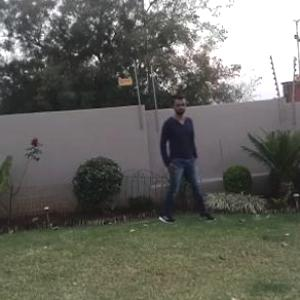follow: (149, 86, 204, 241)
